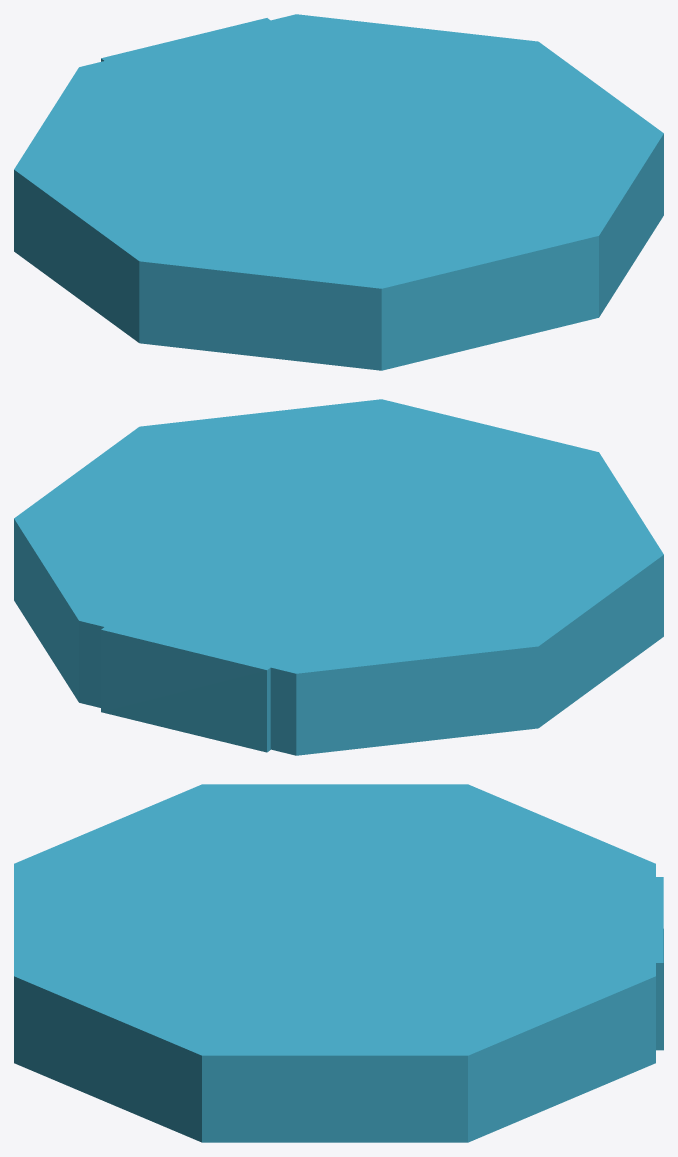
File: Itr_Trashcan4_Cap_05.FBX
3 views of the same model, one above another, from view 1: azimuth 30°, elevation 25°; view 2: azimuth 150°, elevation 25°; view 3: azimuth 270°, elevation 25° (orthographic). The views are drawn at different scales.
Visible parts, largest first — view 1: Itr_Trashcan4_Cap_05; view 2: Itr_Trashcan4_Cap_05; view 3: Itr_Trashcan4_Cap_05.
Boxes of the visible parts, x1,y1,x2,y2 form: Itr_Trashcan4_Cap_05: (14, 14, 663, 370); Itr_Trashcan4_Cap_05: (14, 399, 663, 755); Itr_Trashcan4_Cap_05: (14, 784, 663, 1142).
Size of the model in its own units: 12.01 by 1.8 by 12.15.
